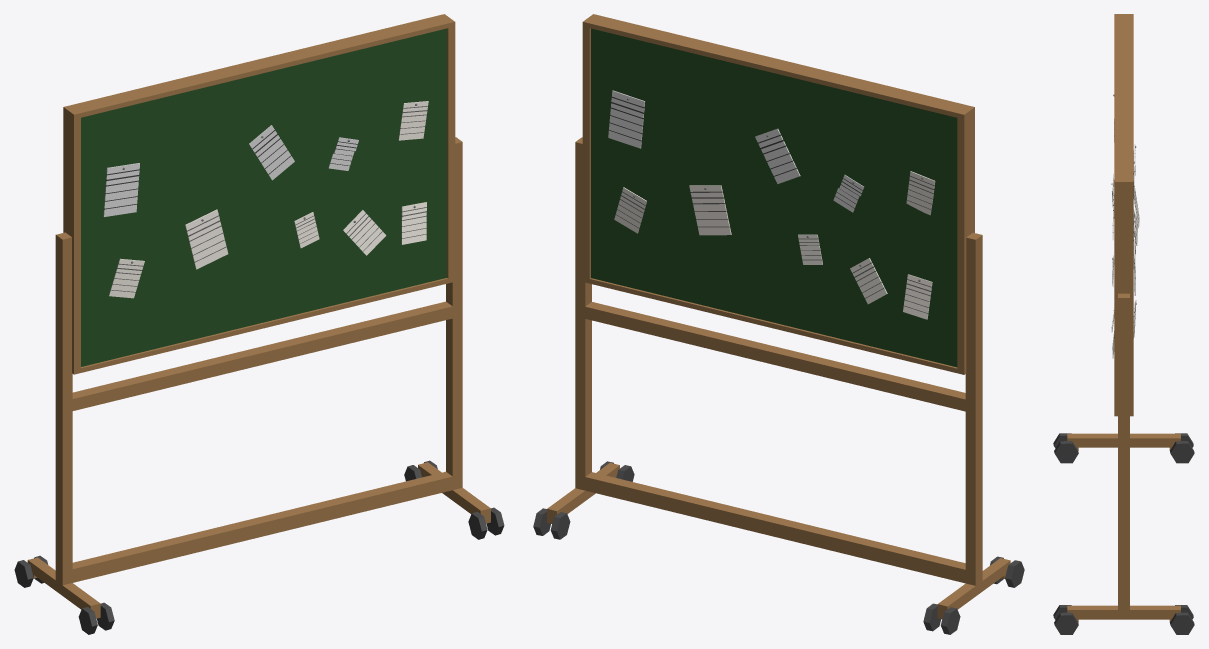
The model's file is WallMagazine_Mb.fbx.
3 renders of one model, left to right at view 1: azimuth 30°, elevation 25°; view 2: azimuth 150°, elevation 25°; view 3: azimuth 270°, elevation 25°, orthographic. The views are drawn at different scales.
Parts seen in each view (by area): view 1: WallMagazine_MB; view 2: WallMagazine_MB; view 3: WallMagazine_MB.
Boxes of the visible parts, x1,y1,x2,y2 form: WallMagazine_MB: (14,14,504,634); WallMagazine_MB: (533,14,1024,634); WallMagazine_MB: (1053,14,1194,634).
Bounding box in the file's own units: 527 × 602 × 173.
